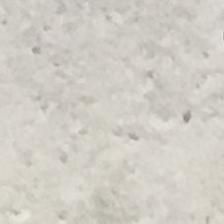Non_Crack: (17, 38, 197, 205)
